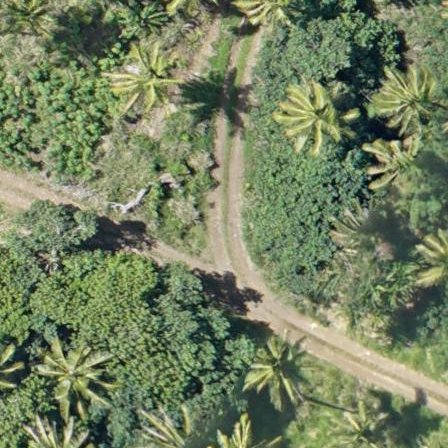palm_tree: (34, 332, 111, 414), (277, 79, 357, 155), (380, 63, 448, 145), (112, 47, 186, 120), (244, 330, 312, 404), (366, 140, 430, 202), (332, 408, 392, 448)
